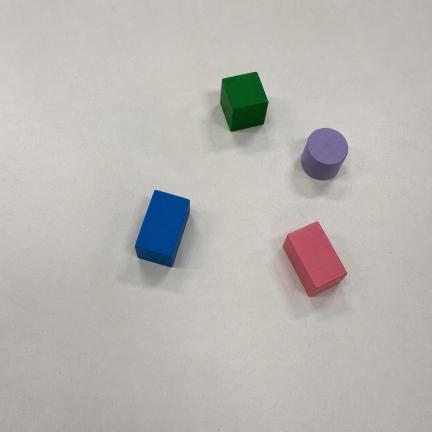BuildingBlocks: (284, 222, 346, 296), (135, 191, 189, 266), (221, 73, 268, 131), (302, 128, 348, 180)
